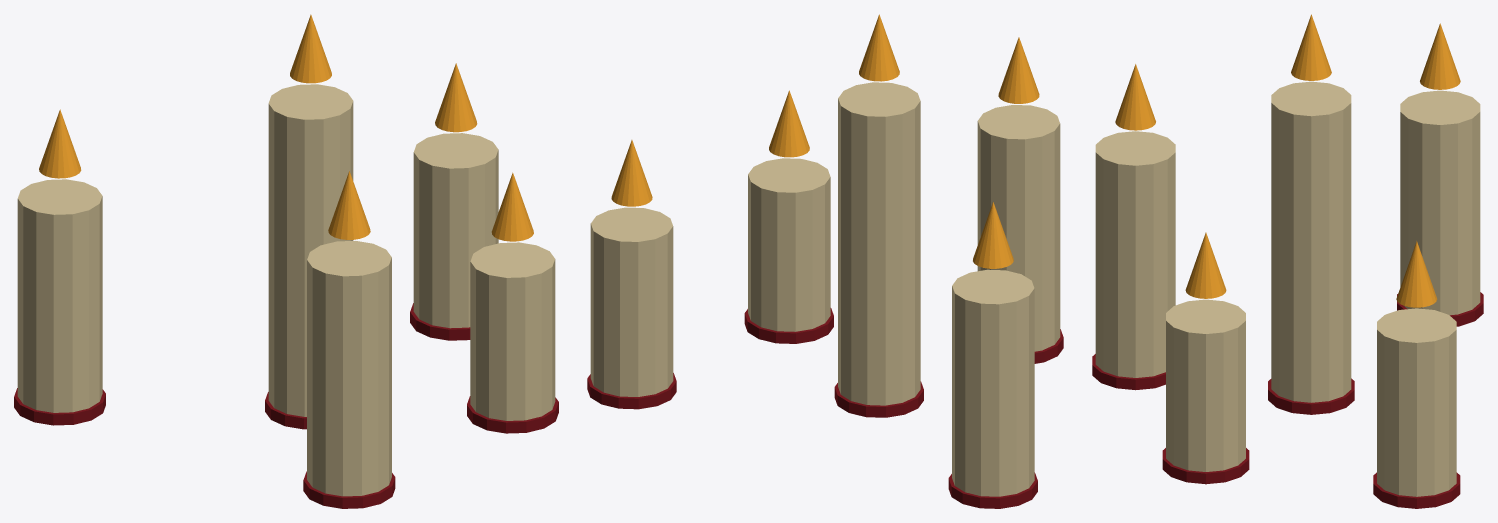
The model's file is CandleCluster_Ritual.obj.
The picture shows the model from 3 angles, left to right: view 1: azimuth 30°, elevation 25°; view 2: azimuth 150°, elevation 25°; view 3: azimuth 270°, elevation 25°; orthographic projection. The views are drawn at different scales.
Visible parts, largest first — view 1: Candle_3, Candle_0, Candle_1, Candle_2, Candle_4, Flame_4, Flame_0, Flame_2, Flame_3, Flame_1, BloodWax_2, BloodWax_3 (+3 smaller); view 2: Candle_1, Candle_0, Candle_4, Candle_3, Candle_2, Flame_4, Flame_1, Flame_2, Flame_3, Flame_0, BloodWax_0, BloodWax_1 (+2 smaller); view 3: Candle_1, Candle_3, Candle_0, Candle_4, Candle_2, Flame_3, Flame_4, Flame_0, Flame_2, Flame_1, BloodWax_4, BloodWax_2 (+3 smaller).
Boxes of the visible parts, x1,y1,x2,y2 form: Candle_3: (307,241,391,496); Candle_0: (17,179,102,412); Candle_1: (268,84,353,416); Candle_2: (470,242,555,420); Candle_4: (413,133,498,328); Flame_4: (435,63,477,132); Flame_0: (39,109,81,178); Flame_2: (491,172,533,241); Flame_3: (328,171,370,239); Flame_1: (290,14,331,83); BloodWax_2: (467,396,558,433); BloodWax_3: (303,471,395,508); Candle_1: (838,82,920,405); Candle_0: (952,269,1034,496); Candle_4: (590,207,673,396); Candle_3: (977,105,1060,351); Candle_2: (748,158,830,331); Flame_4: (611,140,652,206); Flame_1: (859,14,899,81); Flame_2: (769,90,809,157); Flame_3: (998,37,1039,103); Flame_0: (973,202,1013,268); BloodWax_0: (948,472,1037,508); BloodWax_1: (834,381,923,417); Candle_1: (1271,81,1351,402); Candle_3: (1095,131,1175,377); Candle_0: (1400,90,1480,315); Candle_4: (1377,308,1456,496); Candle_2: (1166,299,1245,471); Flame_3: (1115,64,1155,130); Flame_4: (1396,241,1437,307); Flame_0: (1420,23,1460,89); Flame_2: (1185,232,1226,298); Flame_1: (1291,14,1331,80); BloodWax_4: (1373,472,1460,508); BloodWax_2: (1162,448,1249,484).
Bounding box in the file's own units: 0.882 × 0.72 × 0.6682.
